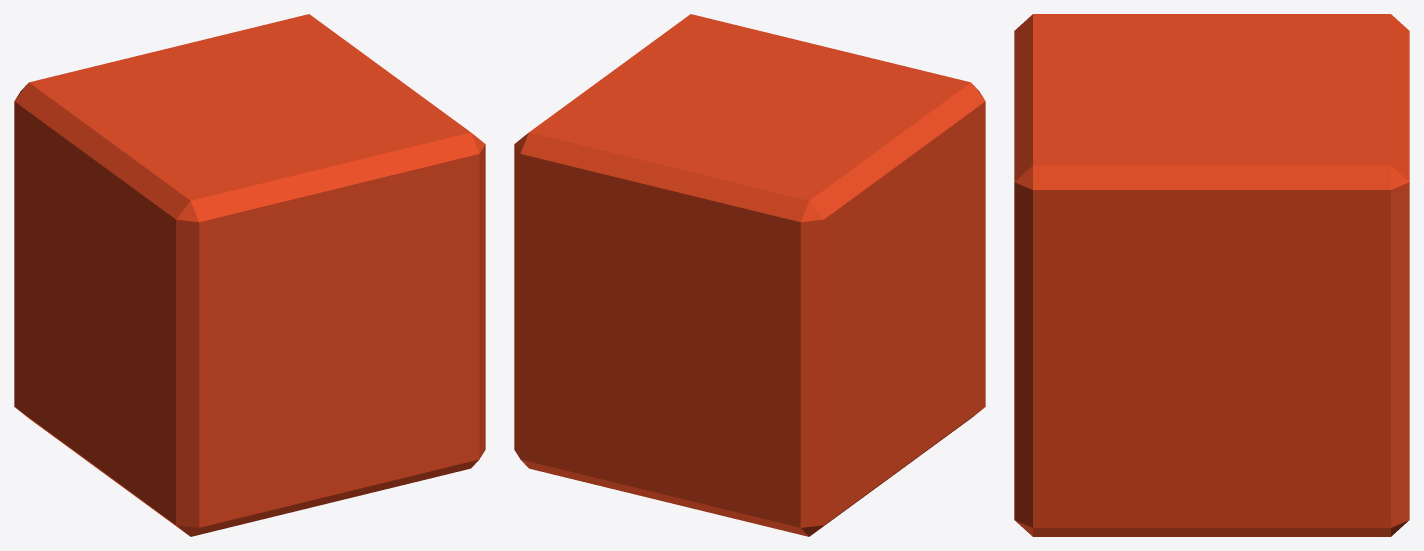
3 renders of one model, left to right at view 1: azimuth 30°, elevation 25°; view 2: azimuth 150°, elevation 25°; view 3: azimuth 270°, elevation 25°, orthographic. The views are drawn at different scales.
Parts seen in each view (by area): view 1: box; view 2: box; view 3: box.
Part boxes in pixels (bbox=[...]): box: bbox=[14, 14, 485, 536]; box: bbox=[514, 14, 985, 536]; box: bbox=[1014, 14, 1409, 536].
Bounding box in the file's own units: 106 × 110 × 106.
